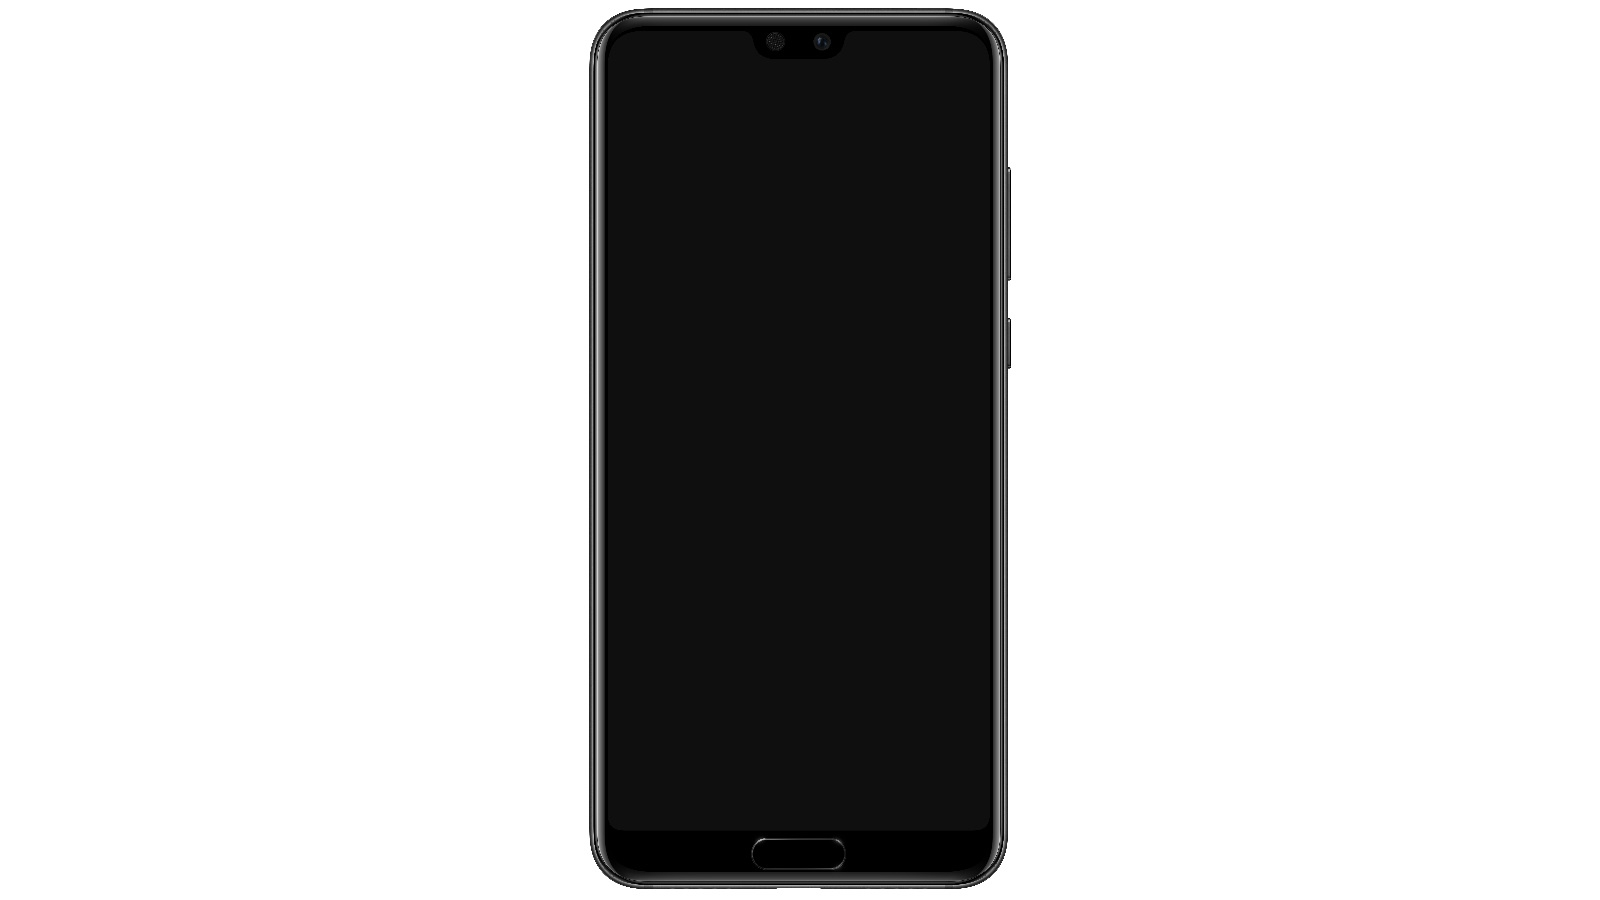phone: (578, 3, 1031, 893)
